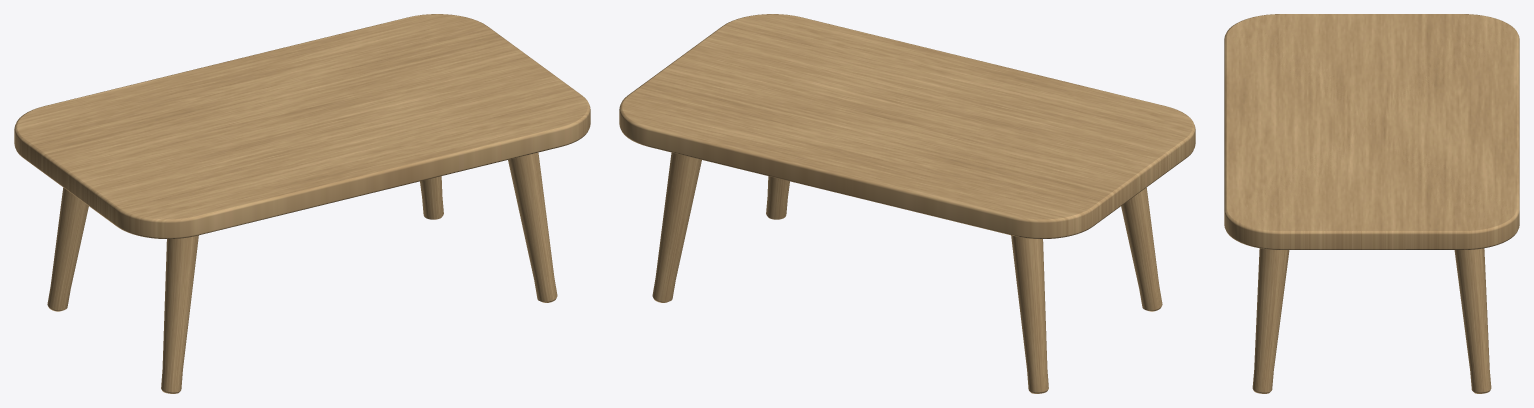
Rendered from home_coffee_table.glb.
The picture shows the model from 3 angles, left to right: view 1: azimuth 30°, elevation 25°; view 2: azimuth 150°, elevation 25°; view 3: azimuth 270°, elevation 25°; orthographic projection. The views are drawn at different scales.
Visible parts, largest first — view 1: Oak_detail_group; view 2: Oak_detail_group; view 3: Oak_detail_group.
Boxes of the visible parts, x1,y1,x2,y2 form: Oak_detail_group: [14, 14, 590, 393]; Oak_detail_group: [619, 14, 1195, 393]; Oak_detail_group: [1224, 14, 1519, 393].
Size of the model in its own units: 1.37 by 0.525 by 0.78.
Materials: 2 (1 with a texture image).
